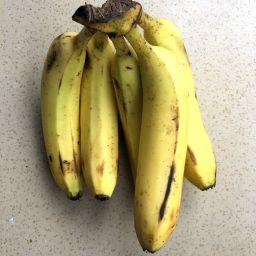banana: (121, 0, 196, 256), (132, 0, 218, 194), (37, 3, 100, 202), (80, 0, 122, 204), (104, 0, 146, 190)
